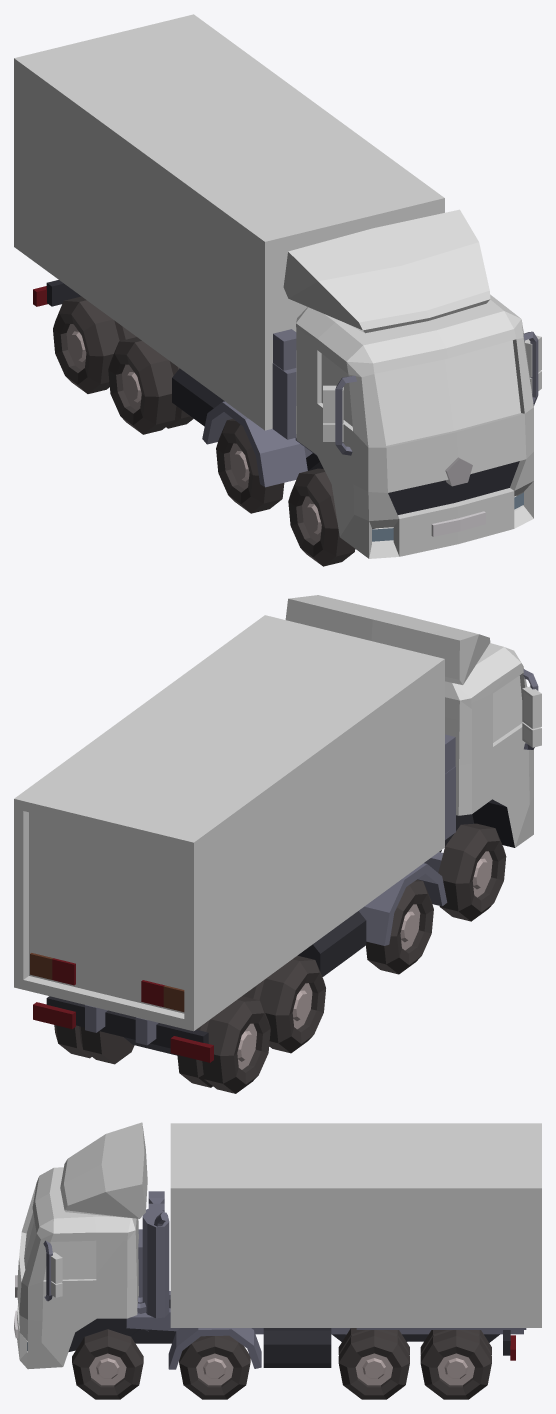
Rendered from Truck_01.fbx.
3 views of the same model, one above another, from view 1: azimuth 30°, elevation 25°; view 2: azimuth 150°, elevation 25°; view 3: azimuth 270°, elevation 25° (orthographic). The views are drawn at different scales.
Visible parts, largest first — view 1: Truck_Trailer, Body, Wheels, Body_Details, Windows, Lights; view 2: Truck_Trailer, Truck_Trailer_Door, Wheels, Body, Body_Details, Truck_Trailer_Lights, Windows, Lights; view 3: Truck_Trailer, Body, Wheels, Body_Details, Windows.
Part boxes in pixels (<box>): Truck_Trailer: <box>14,14,444,430</box>; Body: <box>283,209,541,558</box>; Wheels: <box>53,296,355,566</box>; Body_Details: <box>46,280,538,536</box>; Windows: <box>321,340,520,445</box>; Lights: <box>33,286,523,541</box>; Truck_Trailer: <box>14,615,444,1031</box>; Truck_Trailer_Door: <box>29,812,184,1013</box>; Wheels: <box>54,823,506,1093</box>; Body: <box>285,595,541,847</box>; Body_Details: <box>46,669,538,1055</box>; Truck_Trailer_Lights: <box>30,953,184,1011</box>; Windows: <box>493,675,531,743</box>; Lights: <box>33,1002,213,1062</box>; Truck_Trailer: <box>170,1123,541,1327</box>; Body: <box>17,1122,147,1369</box>; Wheels: <box>72,1328,491,1399</box>; Body_Details: <box>14,1191,526,1369</box>; Windows: <box>24,1212,96,1279</box>.
Bounding box in the file's own units: 2.94 × 3.77 × 8.29.
